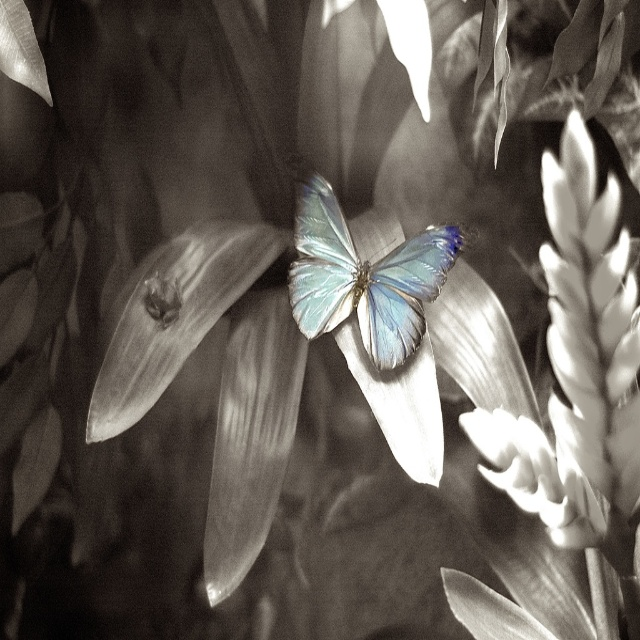Butterfly: (286, 165, 463, 375)
